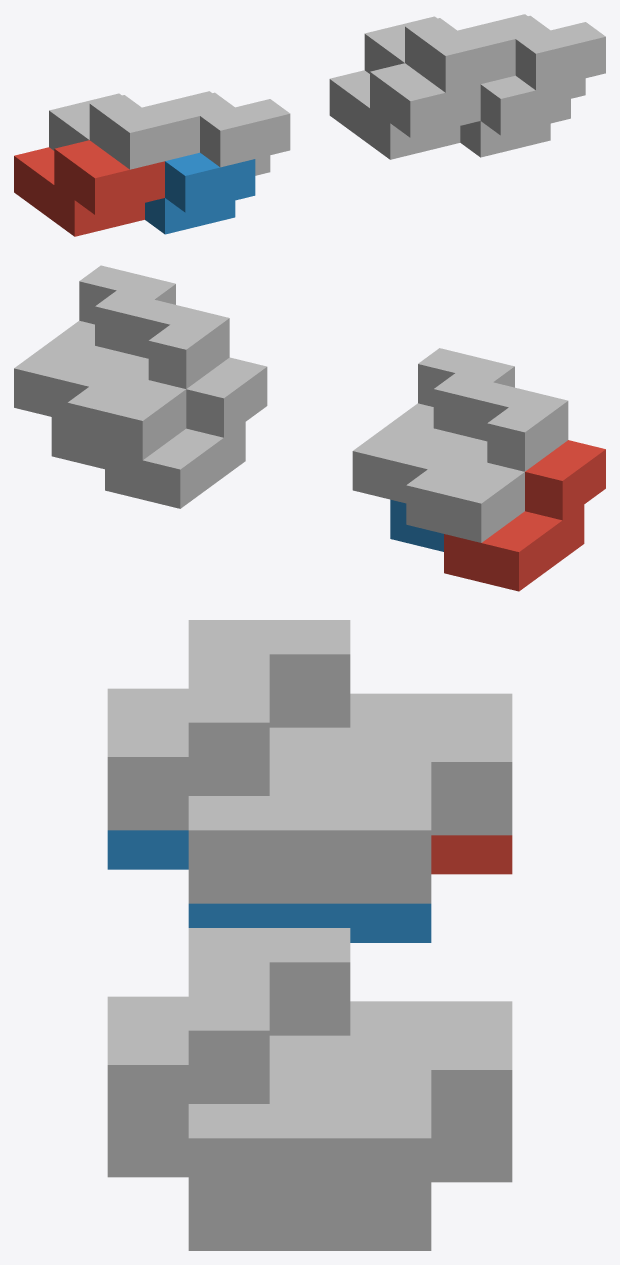
File: tiling.obj
3 views of the same model, one above another, from view 1: azimuth 30°, elevation 25°; view 2: azimuth 150°, elevation 25°; view 3: azimuth 270°, elevation 25° (orthographic). The views are drawn at different scales.
Visible parts, largest first — view 1: copy_1_domain_5, copy_1_domain_1, copy_1_domain_7, copy_1_domain_3, copy_1_domain_2, copy_1_domain_6, copy_1_domain_4, copy_1_domain_8; view 2: copy_1_domain_7, copy_1_domain_3, copy_1_domain_5, copy_1_domain_1, copy_1_domain_4, copy_1_domain_8, copy_1_domain_2, copy_1_domain_6; view 3: copy_1_domain_4, copy_1_domain_8, copy_1_domain_7, copy_1_domain_3, copy_1_domain_6, copy_1_domain_2, copy_1_domain_1, copy_1_domain_5.
Boxes of the visible parts, x1,y1,x2,y2 form: copy_1_domain_5: (329,63,480,159); copy_1_domain_1: (14,140,164,236); copy_1_domain_7: (364,16,515,92); copy_1_domain_3: (49,93,199,169); copy_1_domain_2: (145,152,255,234); copy_1_domain_6: (460,75,570,157); copy_1_domain_4: (142,91,290,175); copy_1_domain_8: (458,14,605,98); copy_1_domain_7: (67,299,229,460); copy_1_domain_3: (406,382,568,542); copy_1_domain_5: (105,357,267,508); copy_1_domain_1: (444,440,605,591); copy_1_domain_4: (352,348,514,503); copy_1_domain_8: (14,265,175,420); copy_1_domain_2: (390,499,443,551); copy_1_domain_6: (51,417,104,469); copy_1_domain_4: (107,688,431,903); copy_1_domain_8: (107,996,431,1211); copy_1_domain_7: (188,928,512,1143); copy_1_domain_3: (188,620,512,835); copy_1_domain_6: (107,1138,431,1250); copy_1_domain_2: (107,830,431,942); copy_1_domain_1: (431,835,512,874); copy_1_domain_5: (431,1143,512,1182).
Bounding box in the file's own units: 14 × 3 × 5.
